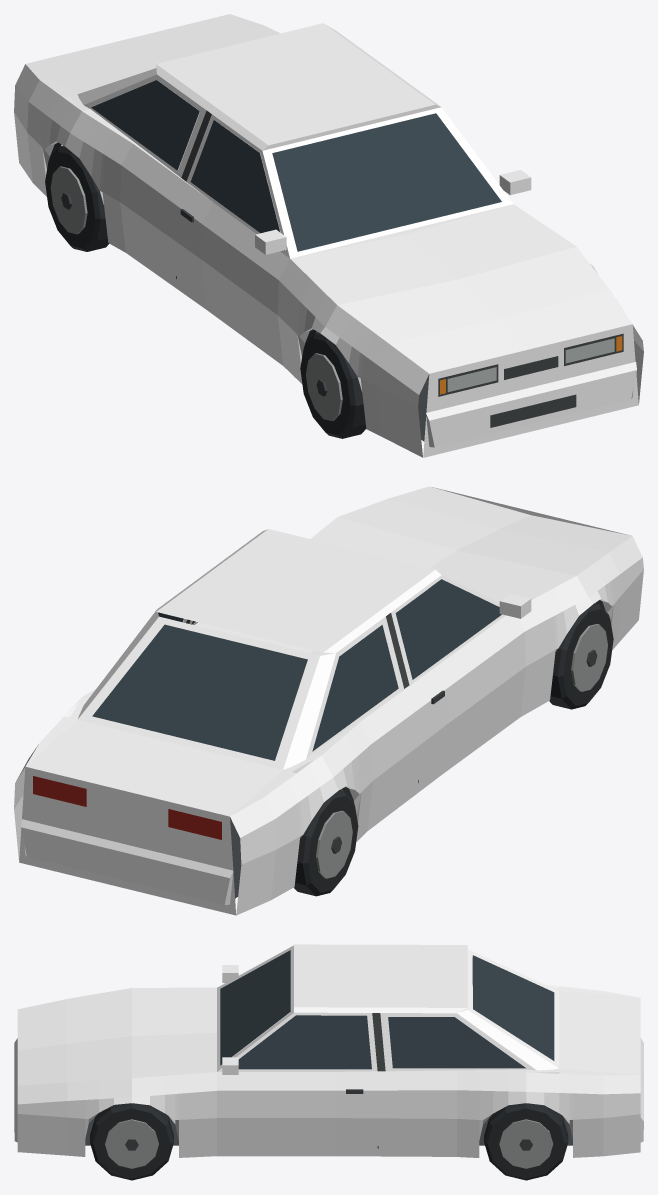
File: ostwerk_falke.glb
The picture shows the model from 3 angles, top to bottom: view 1: azimuth 30°, elevation 25°; view 2: azimuth 150°, elevation 25°; view 3: azimuth 270°, elevation 25°; orthographic projection. The views are drawn at different scales.
Parts seen in each view (by area): view 1: ostwerk_falke; view 2: ostwerk_falke; view 3: ostwerk_falke.
Part boxes in pixels (bbox=[...]): ostwerk_falke: bbox=[14, 14, 643, 457]; ostwerk_falke: bbox=[14, 486, 643, 915]; ostwerk_falke: bbox=[14, 944, 643, 1180].
Bounding box in the file's own units: 1.81 × 1.28 × 4.68.
8 materials, 1 textured.
